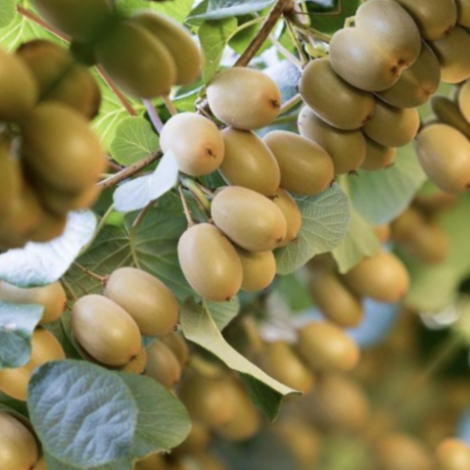kiwi: (143, 194, 272, 321), (276, 32, 405, 158), (82, 241, 200, 357), (191, 42, 303, 153), (186, 164, 297, 274), (51, 278, 160, 385), (393, 103, 470, 210)
